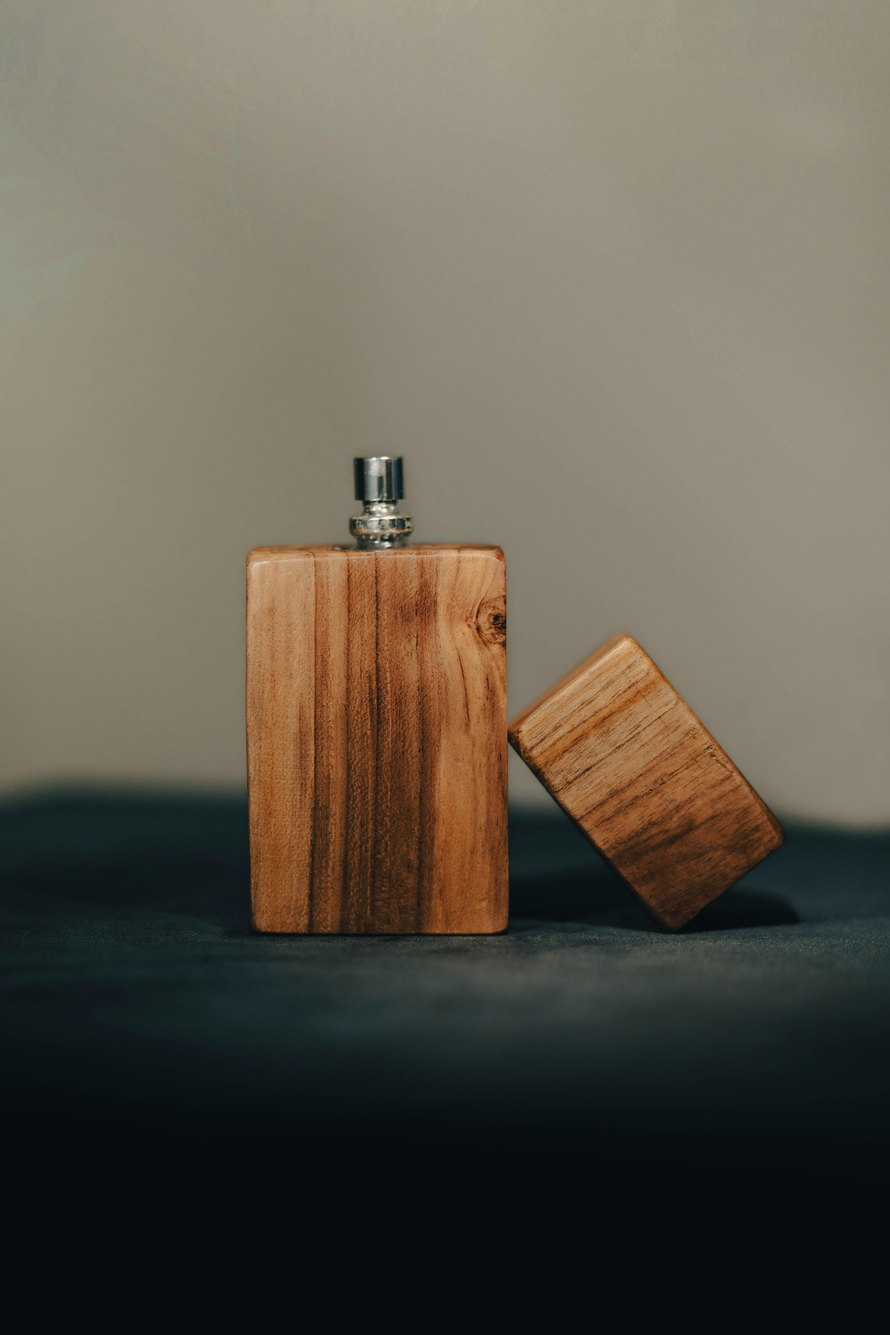Bottle-Detection: (195, 425, 820, 979)
